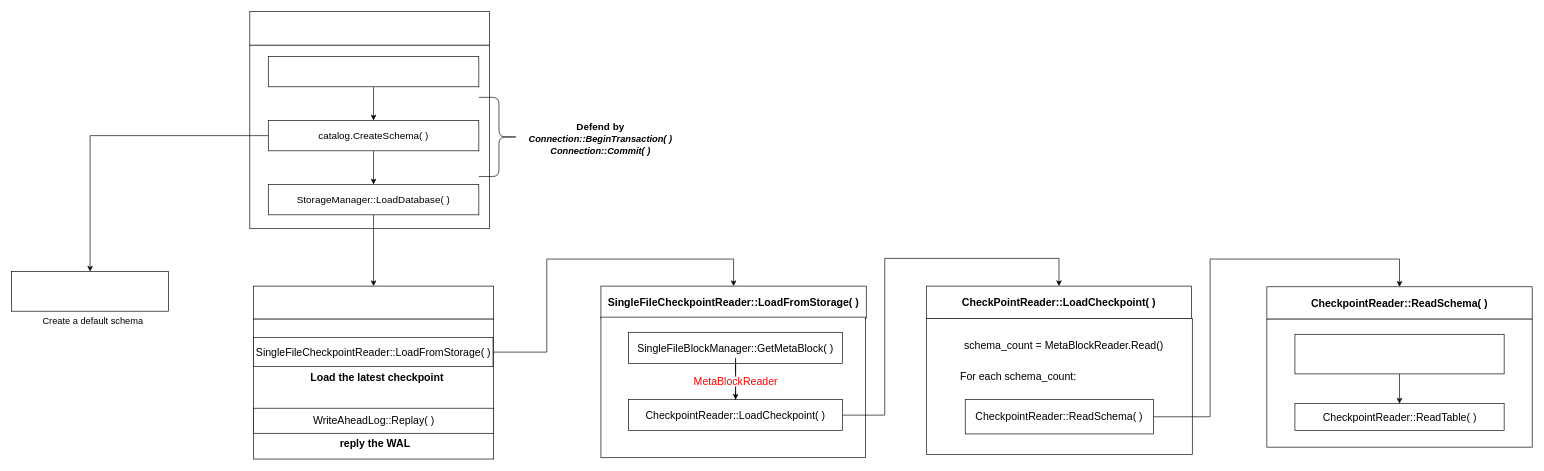
Image size: 1544x471. Some labels were removed from this diagram. Here are the shapes that lost their labels. From the top down, the box of each, then its label:
(249, 11, 489, 45): StorageManager::Initialize( )
(268, 56, 479, 87): StorageManager::CreateBufferManager( )
(11, 271, 169, 311): CreateSchemaInfo info info.Schema= DEFAULT_SCHEMA
(253, 285, 494, 319): SingleFileStorageManager::LoadDatabase( )
(1294, 334, 1504, 374): info = SchemaCatalogEntry::Deserialize( ) catalog.CreateSchema(info)
